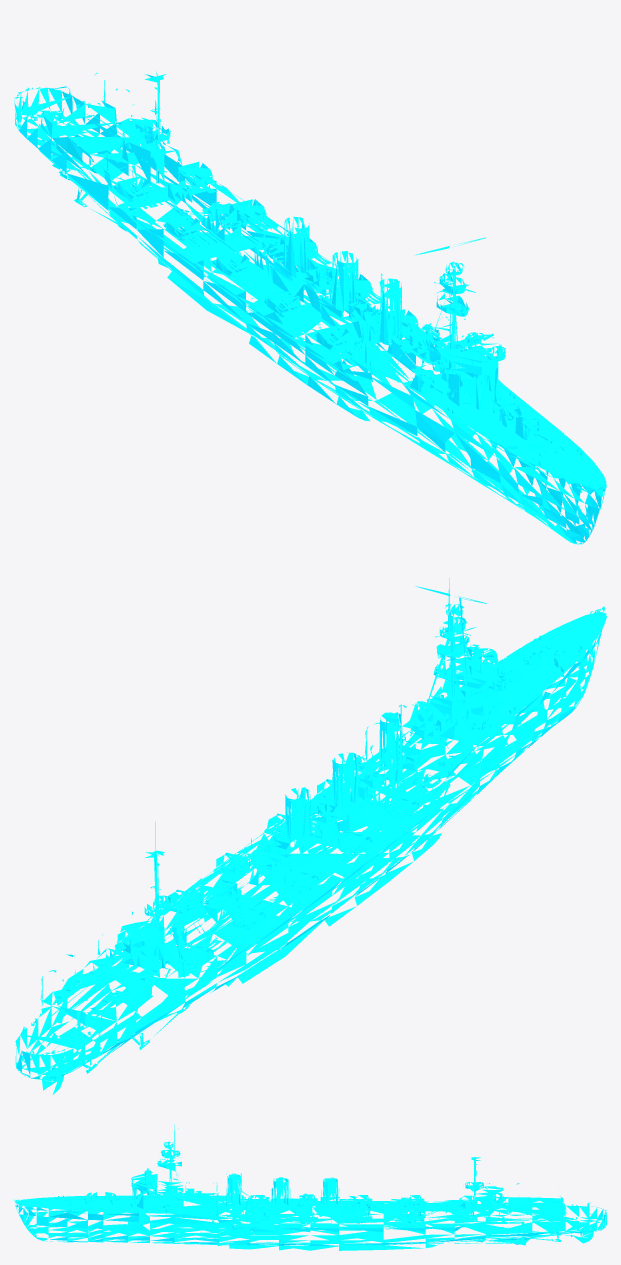
File: Kitakami.glb
3 renders of one model, top to bottom at view 1: azimuth 30°, elevation 25°; view 2: azimuth 150°, elevation 25°; view 3: azimuth 270°, elevation 25°, orthographic. The views are drawn at different scales.
Bounding box in the file's own units: 1.16 × 2.42 × 10.84.
